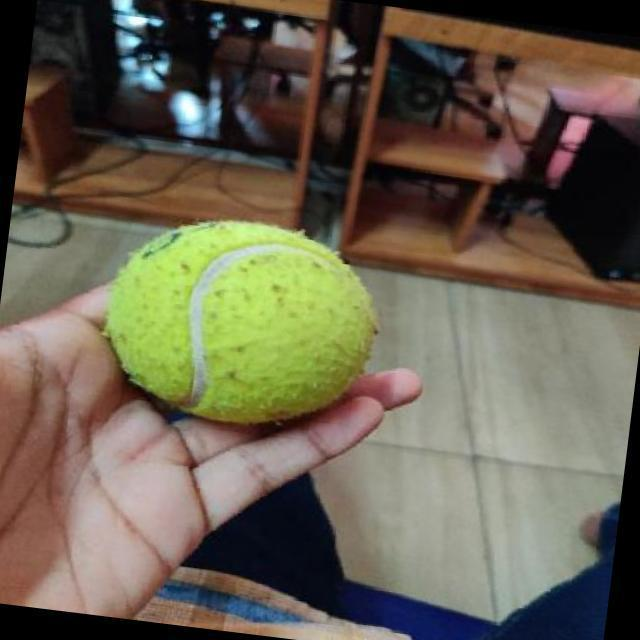-: (84, 205, 386, 450)
